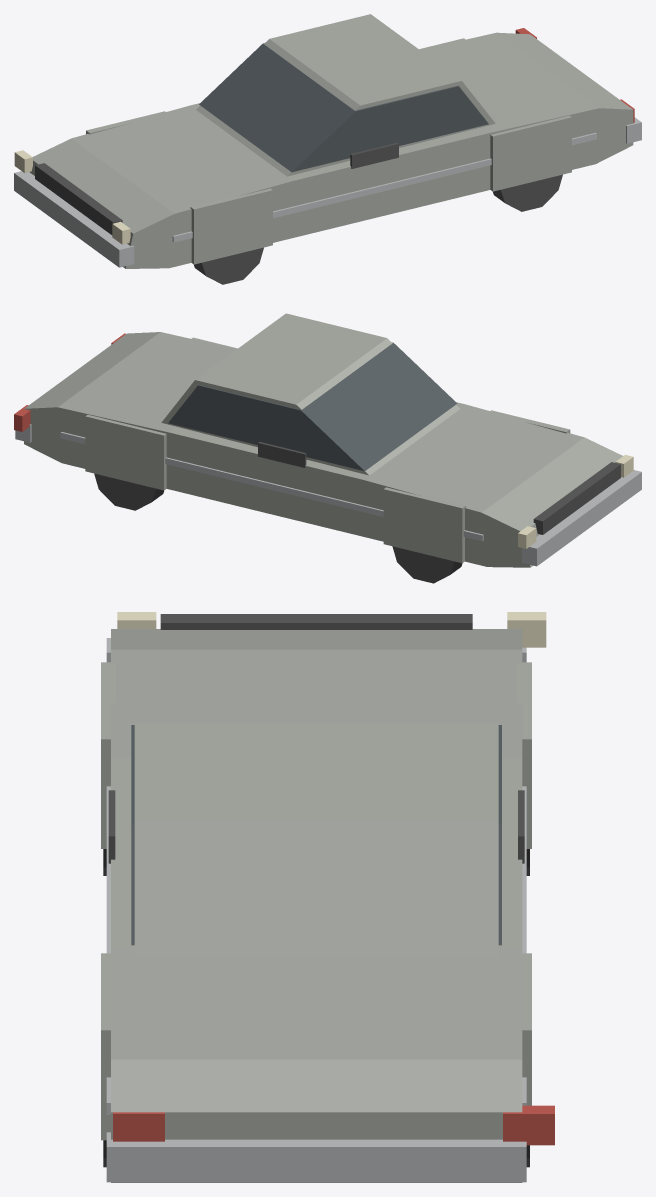
The model's file is car_sedan.glb.
3 renders of one model, top to bottom at view 1: azimuth 30°, elevation 25°; view 2: azimuth 150°, elevation 25°; view 3: azimuth 270°, elevation 25°, orthographic. The views are drawn at different scales.
Parts seen in each view (by area): view 1: NC_car_sedan; view 2: NC_car_sedan; view 3: NC_car_sedan.
Part boxes in pixels (x1,y1,x2,y2): NC_car_sedan: (14, 14, 641, 284); NC_car_sedan: (14, 313, 641, 583); NC_car_sedan: (101, 612, 554, 1182).
Size of the model in its own units: 5.56 by 1.4 by 2.1.
